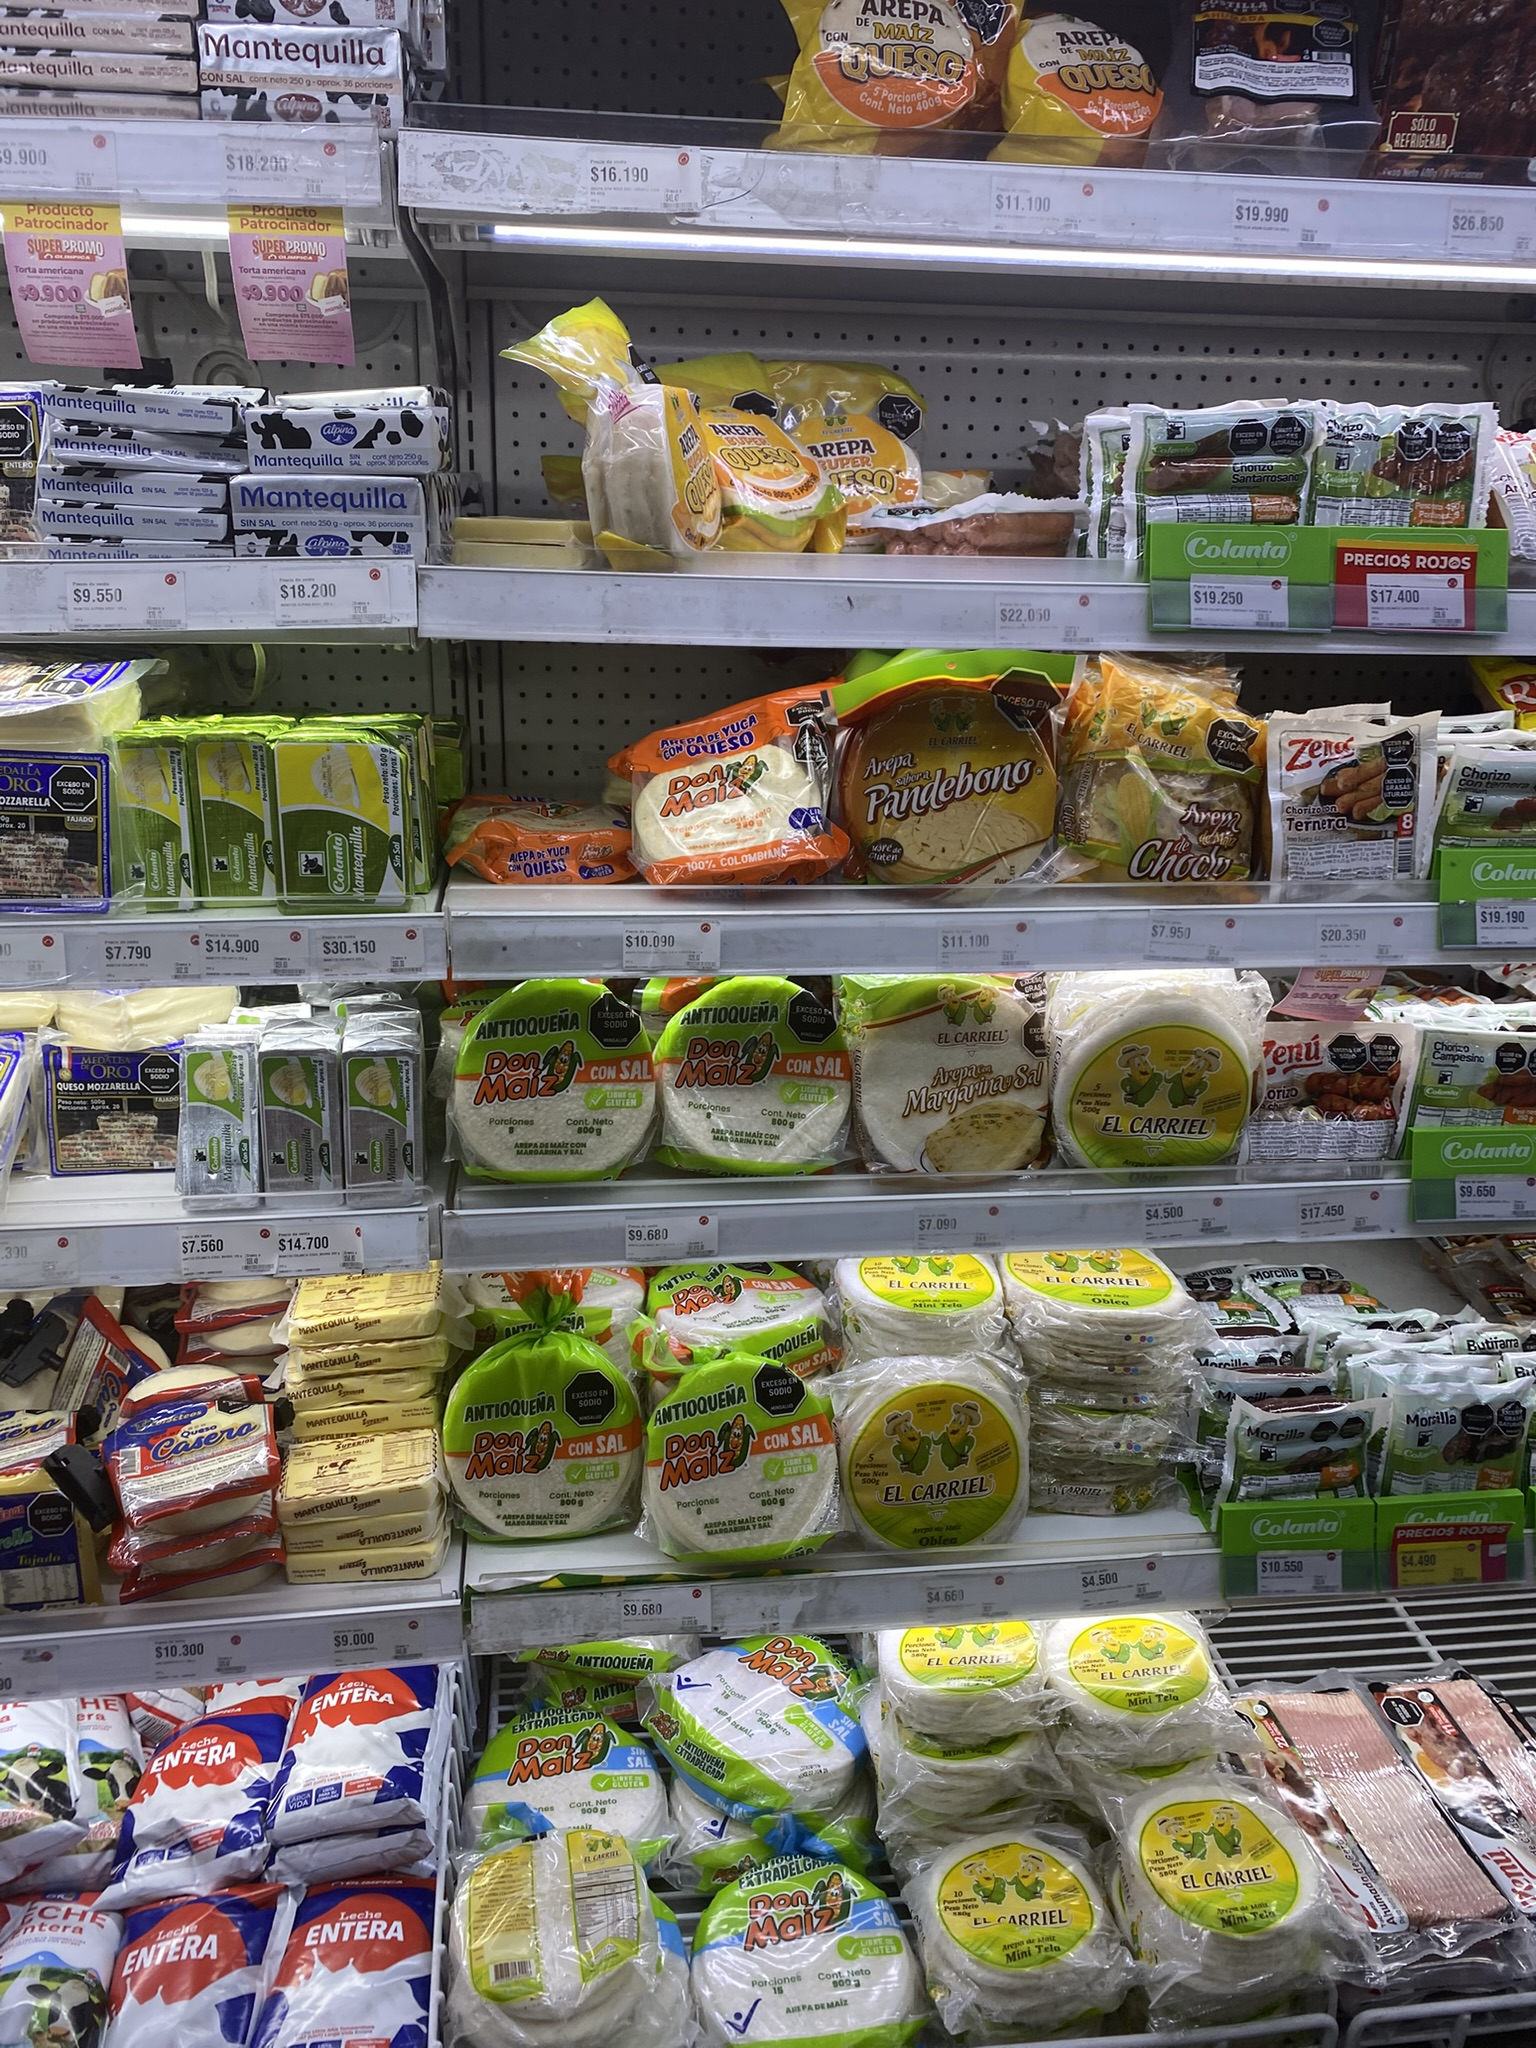Arepa: (1057, 968, 1270, 1166), (453, 1825, 673, 2011), (1129, 1777, 1357, 1950), (833, 1359, 1039, 1537), (916, 1837, 1121, 2008), (1065, 1611, 1262, 1748), (1020, 1237, 1197, 1367), (866, 1621, 1047, 1730), (841, 1237, 1007, 1343)
